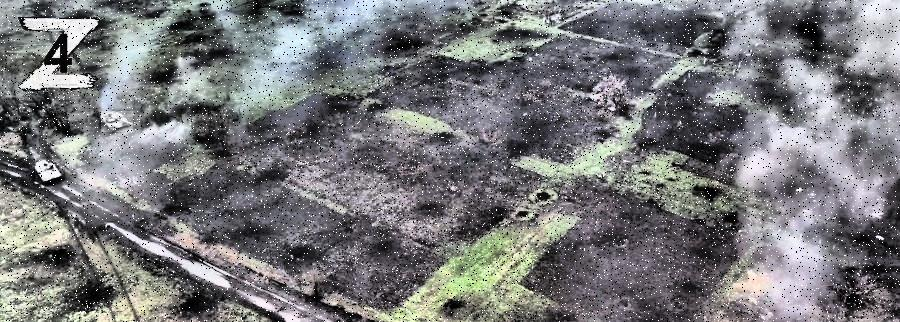military-vehicle: (35, 159, 63, 183), (101, 111, 133, 132)
